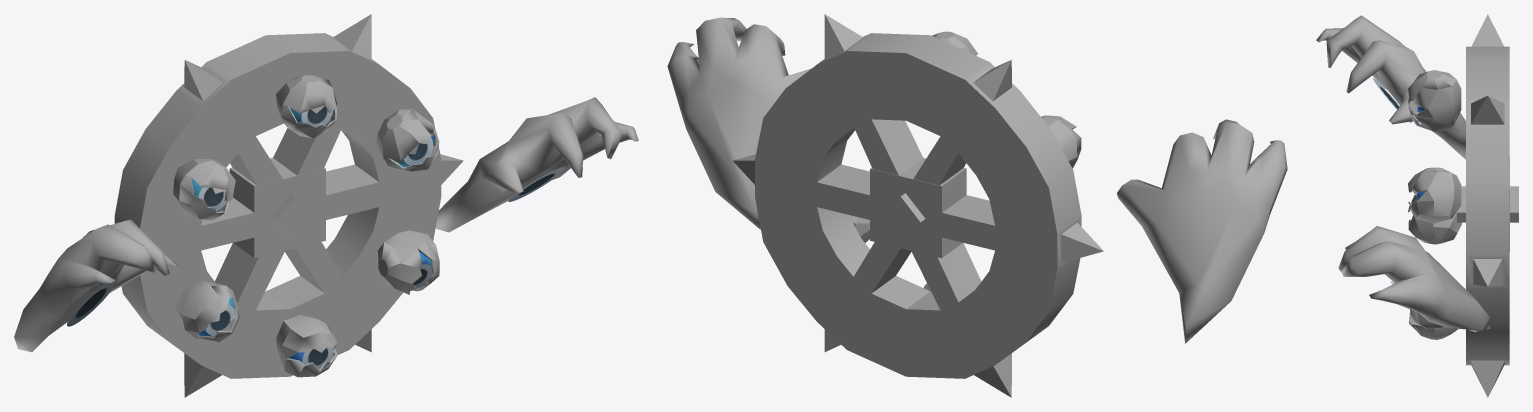
The model's file is model_boss.fbx.
3 views of the same model, side by side, from view 1: azimuth 30°, elevation 25°; view 2: azimuth 150°, elevation 25°; view 3: azimuth 270°, elevation 25° (orthographic). The views are drawn at different scales.
Parts seen in each view (by area): view 1: boss, R_hand, L_hand, rock4, rock3, rock2, rock5, rock1, rock6, eye8; view 2: boss, L_hand, R_hand, rock1; view 3: boss, R_hand, L_hand, rock2, rock3, rock6, rock5, rock1, rock4.
Part boxes in pixels (x1,y1,x2,y2): boss: (114,14,463,397); R_hand: (435,97,638,232); L_hand: (14,219,178,352); rock4: (378,230,439,294); rock3: (376,109,439,171); rock2: (276,75,337,138); rock5: (276,315,337,377); rock1: (173,159,235,220); rock6: (174,281,239,342); eye8: (67,281,115,326); boss: (733,14,1103,397); L_hand: (1117,119,1287,343); R_hand: (667,17,810,229); rock1: (1041,115,1081,168); boss: (1457,14,1518,397); R_hand: (1338,226,1489,331); L_hand: (1316,15,1465,159); rock2: (1408,70,1461,126); rock3: (1408,167,1461,223); rock6: (1408,194,1461,244); rock5: (1409,312,1457,339); rock1: (1408,97,1461,131); rock4: (1410,309,1445,329).
Size of the model in its own units: 65.57 by 35.73 by 21.7.
Materials: 3 (2 with a texture image).
